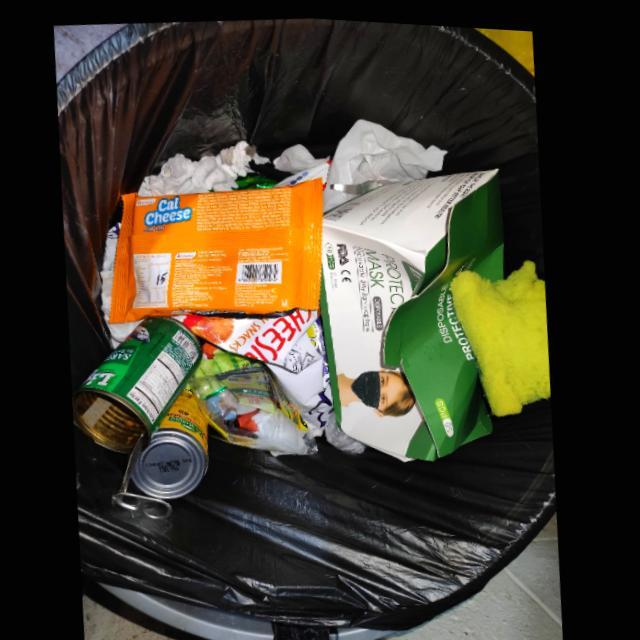metal: (74, 313, 205, 515), (134, 385, 211, 496)
paper: (321, 161, 505, 454), (138, 137, 251, 194)
wrapper: (110, 172, 325, 321), (173, 305, 336, 424), (220, 363, 279, 408)
